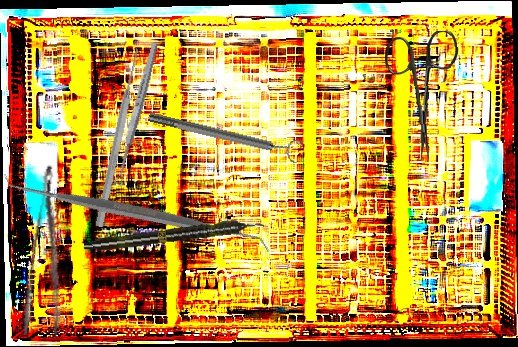Dressing Forceps: (19, 164, 83, 340)
Fixation Ring: (146, 103, 303, 166)
Handpiece: (83, 216, 265, 255)
Iris Scissors: (383, 30, 464, 161)
Pusher: (93, 46, 144, 228)
Spatula Surgical: (3, 81, 270, 345)
Surgical Spoon: (112, 42, 160, 187)
